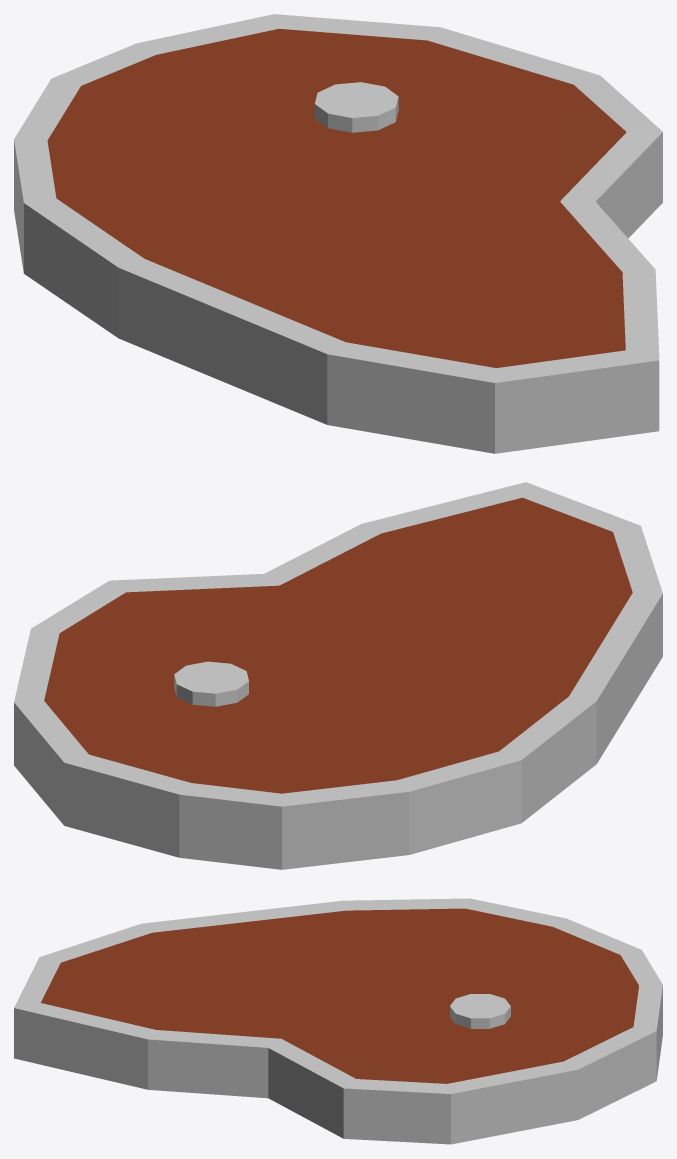
The model's file is SM_Food_Steak_01.fbx.
3 views of the same model, one above another, from view 1: azimuth 30°, elevation 25°; view 2: azimuth 150°, elevation 25°; view 3: azimuth 270°, elevation 25° (orthographic). The views are drawn at different scales.
Parts seen in each view (by area): view 1: SM_Food_Steak_01; view 2: SM_Food_Steak_01; view 3: SM_Food_Steak_01.
Boxes of the visible parts, box(x1,y1,x2,y2) form: SM_Food_Steak_01: box(14, 14, 662, 453); SM_Food_Steak_01: box(14, 482, 662, 869); SM_Food_Steak_01: box(14, 898, 662, 1144).
Size of the model in its own units: 0.1995 by 0.0344 by 0.2797.
